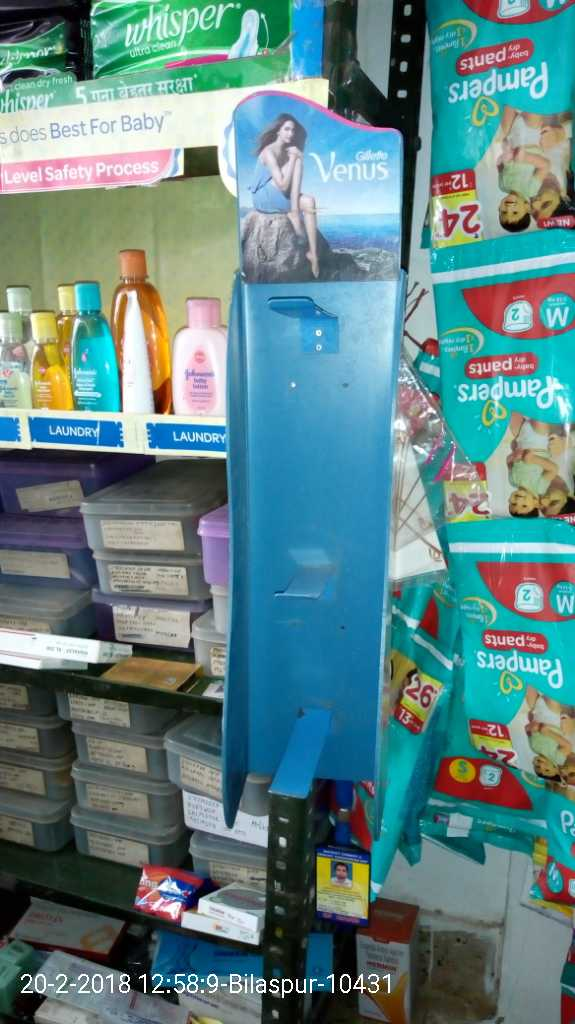pharmacy: (436, 533, 573, 836), (434, 261, 575, 535), (420, 5, 575, 252), (83, 7, 283, 88)
